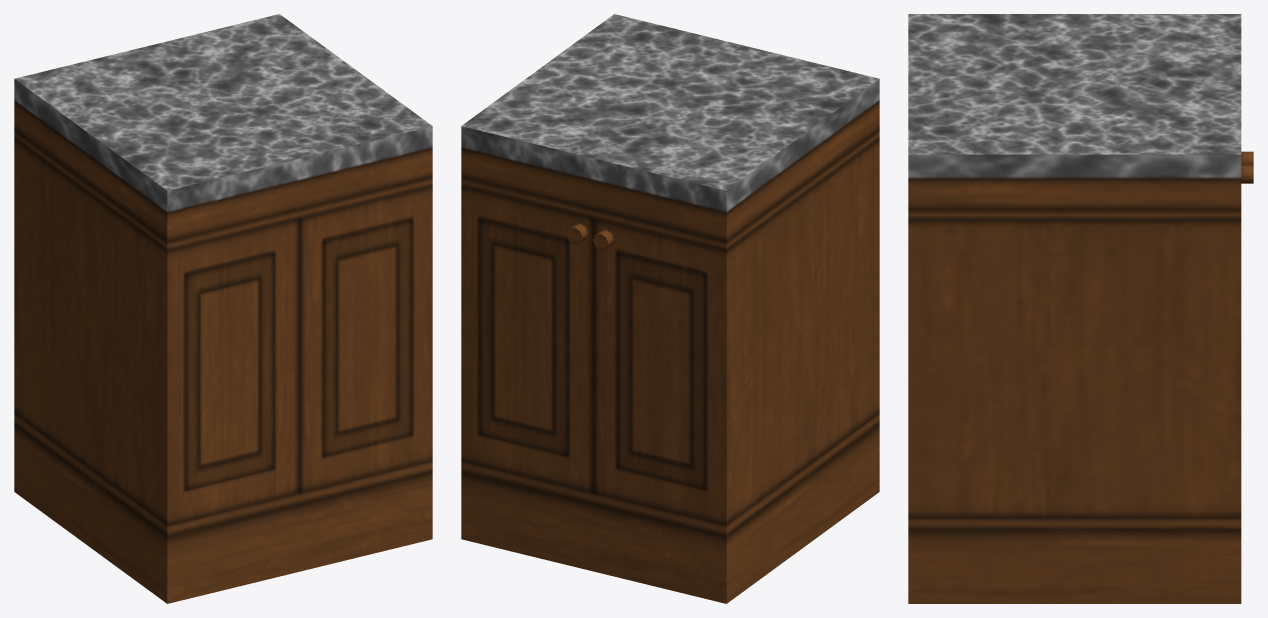
File: KitchenBottomA.fbx
3 views of the same model, side by side, from view 1: azimuth 30°, elevation 25°; view 2: azimuth 150°, elevation 25°; view 3: azimuth 270°, elevation 25° (orthographic). The views are drawn at different scales.
Parts seen in each view (by area): view 1: KitchenBottomA; view 2: KitchenBottomA; view 3: KitchenBottomA.
Boxes of the visible parts, <box> form: KitchenBottomA: <box>14,14,432,603</box>; KitchenBottomA: <box>461,14,879,603</box>; KitchenBottomA: <box>908,14,1253,603</box>.
Bounding box in the file's own units: 5 × 7.44 × 5.19.
